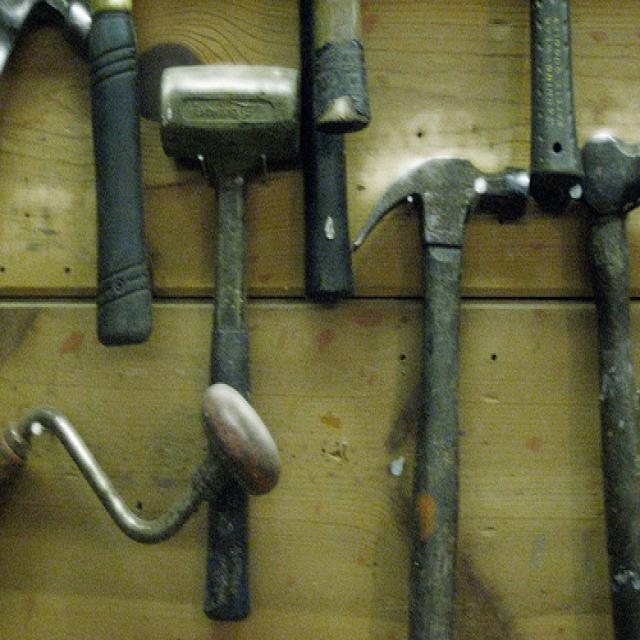hammer: (356, 110, 532, 629)
